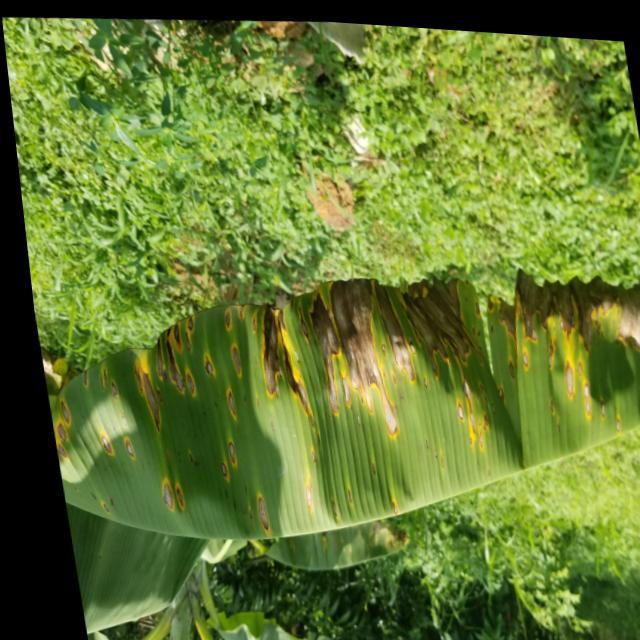Early_rust: (43, 257, 640, 558)
